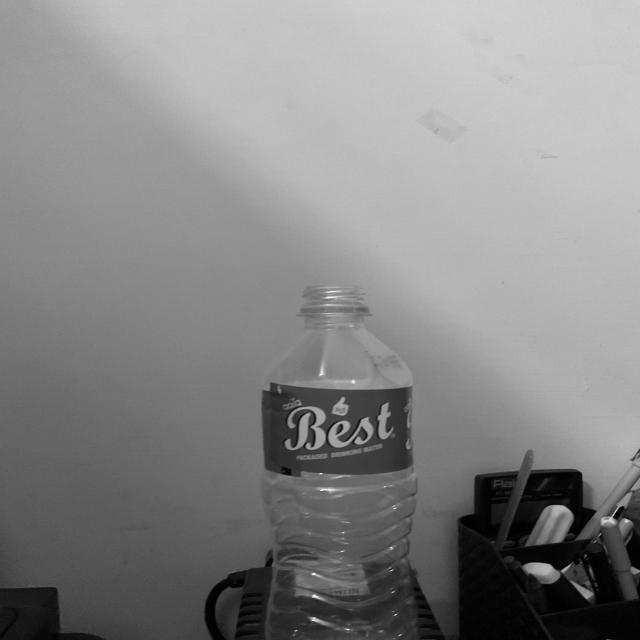open-cap: (300, 283, 375, 318)
